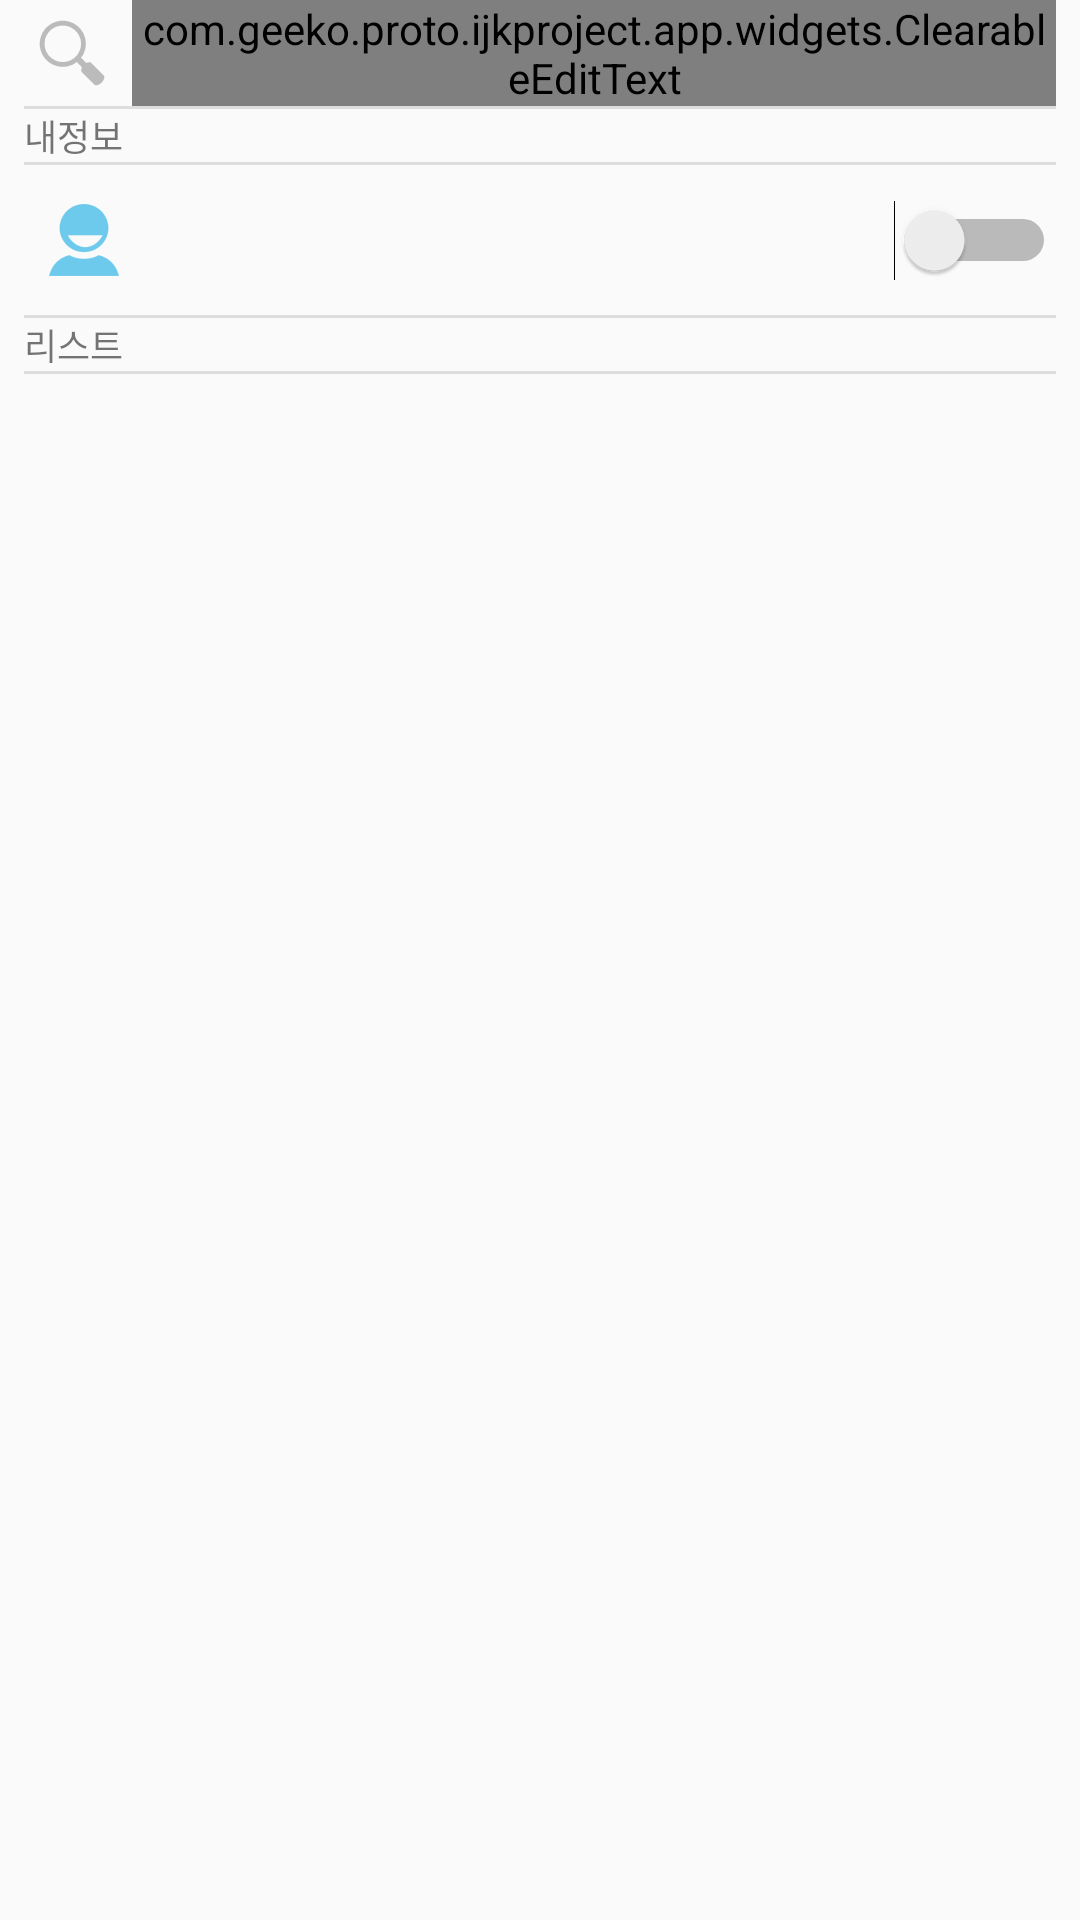

Point at icon controls on the screen. Image size 1080w x 1920h, points as point (x, y).
person: point (84, 240)
search: point (72, 53)
